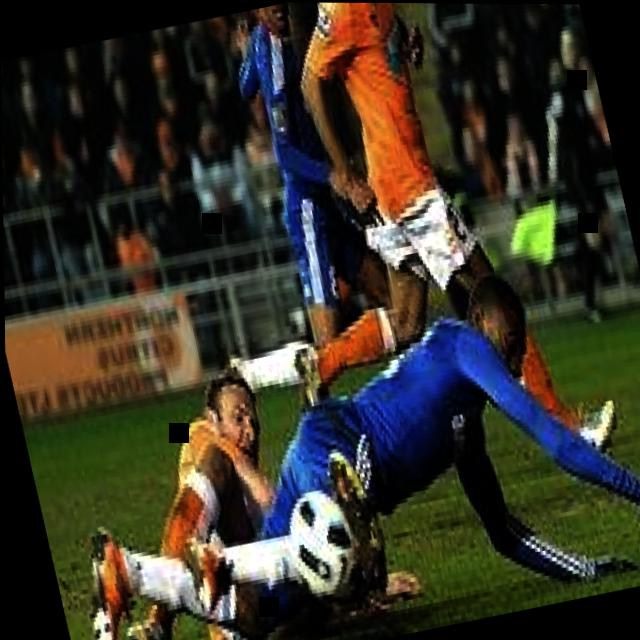Fall-Detected: (45, 330, 362, 640)
